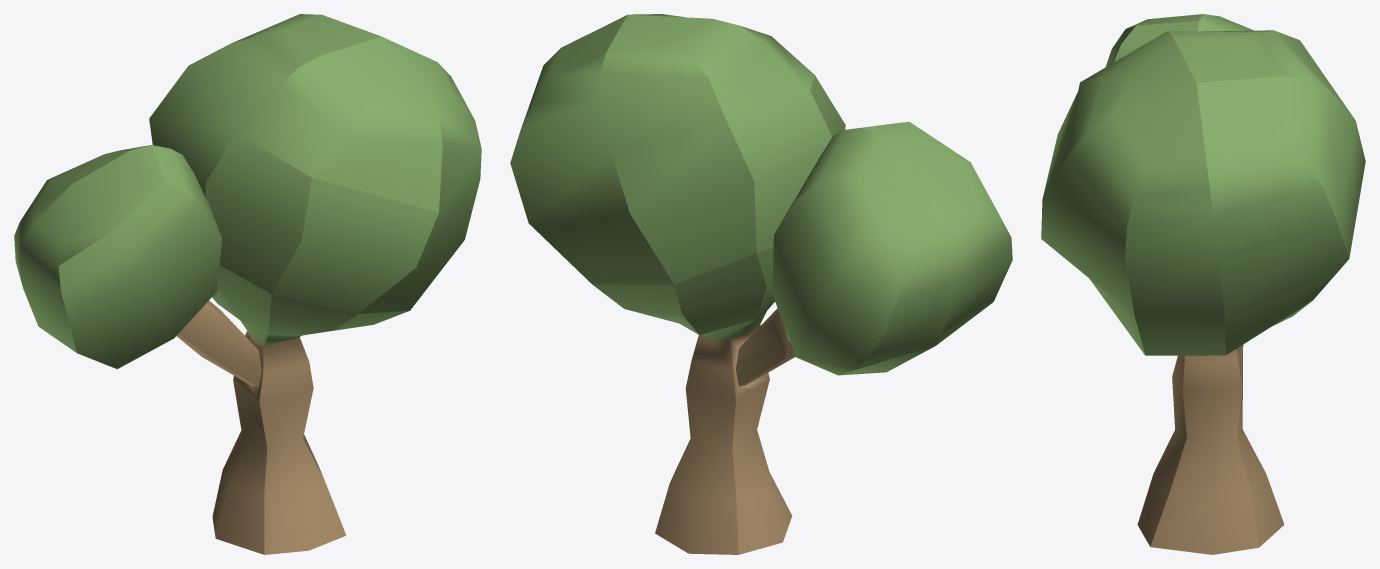
Rendered from tree_var1_v01.fbx.
3 renders of one model, left to right at view 1: azimuth 30°, elevation 25°; view 2: azimuth 150°, elevation 25°; view 3: azimuth 270°, elevation 25°, orthographic. The views are drawn at different scales.
Visible parts, largest first — view 1: pCube1; view 2: pCube1; view 3: pCube1.
Boxes of the visible parts, x1=… form: pCube1: x1=14, y1=14, x2=481, y2=554; pCube1: x1=510, y1=14, x2=1012, y2=554; pCube1: x1=1041, y1=14, x2=1365, y2=554.
Size of the model in its own units: 393 by 420 by 246.
